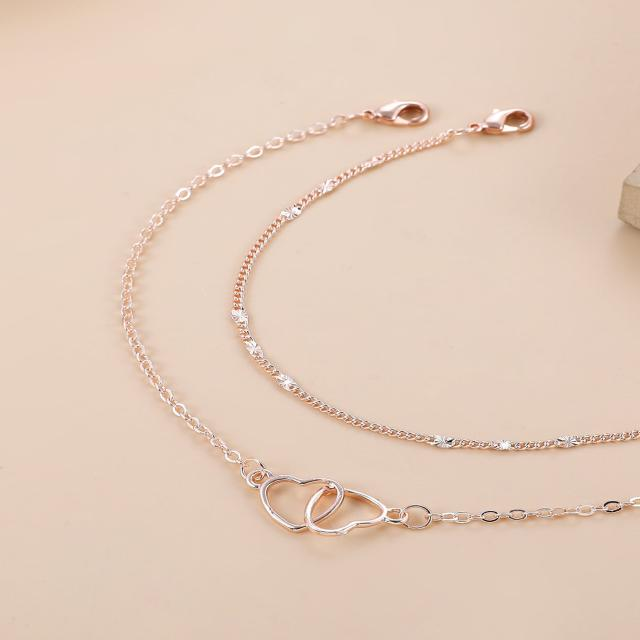bracelet: (64, 46, 640, 572)
